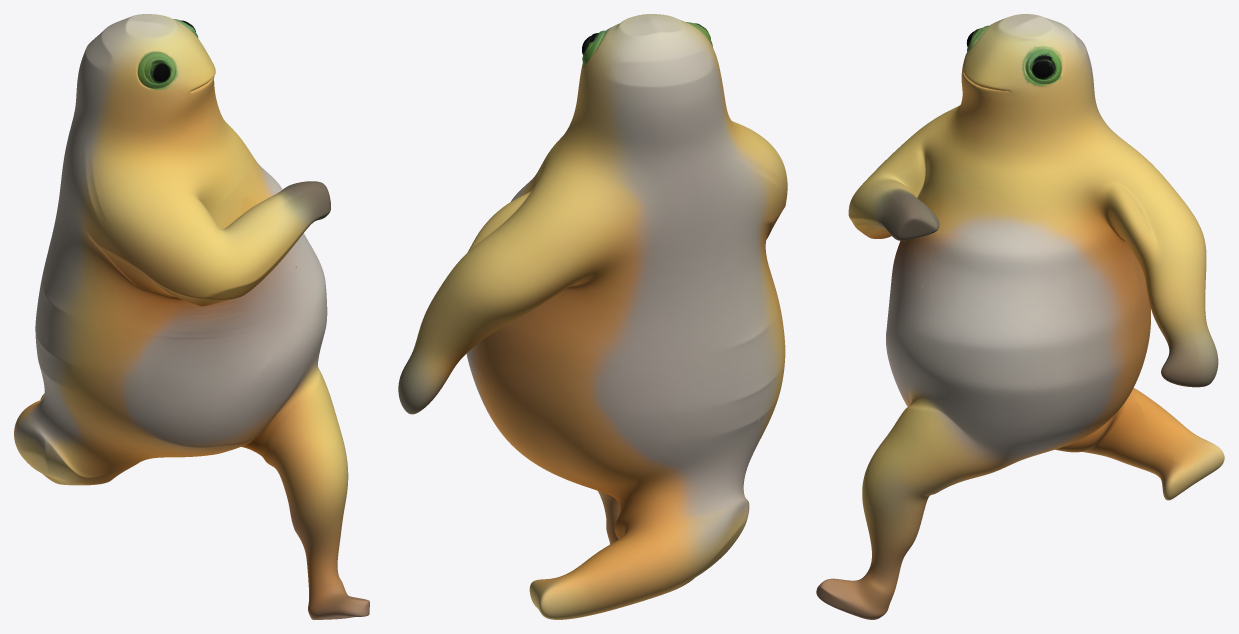
Rendered from frog-run-v2.glb.
3 renders of one model, left to right at view 1: azimuth 30°, elevation 25°; view 2: azimuth 150°, elevation 25°; view 3: azimuth 270°, elevation 25°, orthographic. The views are drawn at different scales.
Parts seen in each view (by area): view 1: node_0; view 2: node_0; view 3: node_0.
Boxes of the visible parts, x1,y1,x2,y2 form: node_0: (14,14,369,619); node_0: (398,14,787,619); node_0: (816,14,1224,619).
Bounding box in the file's own units: 0.4831 × 1.02 × 0.6908.
1 material, 1 textured.
